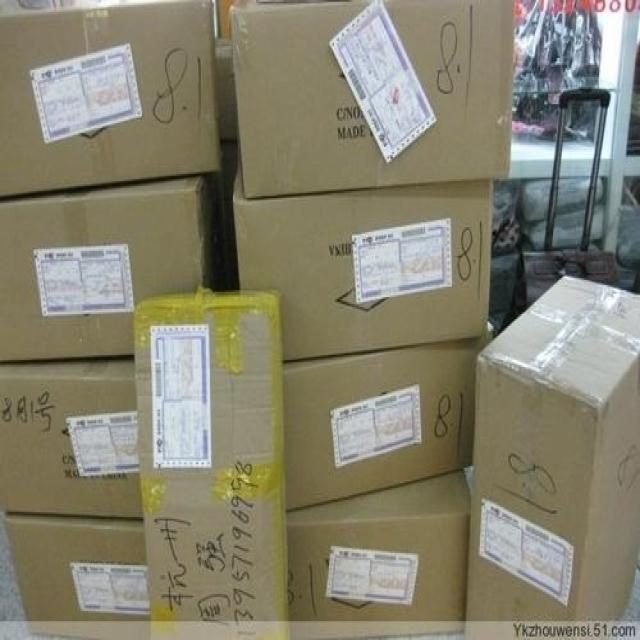box: (466, 275, 639, 638), (219, 0, 515, 196), (133, 288, 291, 638), (233, 157, 493, 362), (0, 174, 225, 360), (284, 340, 494, 512), (289, 473, 472, 638), (0, 358, 143, 519), (3, 512, 150, 640), (218, 41, 237, 140)
